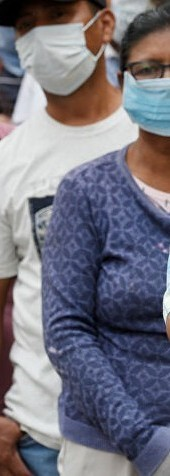with_mask: (10, 3, 114, 104), (117, 17, 170, 140)
